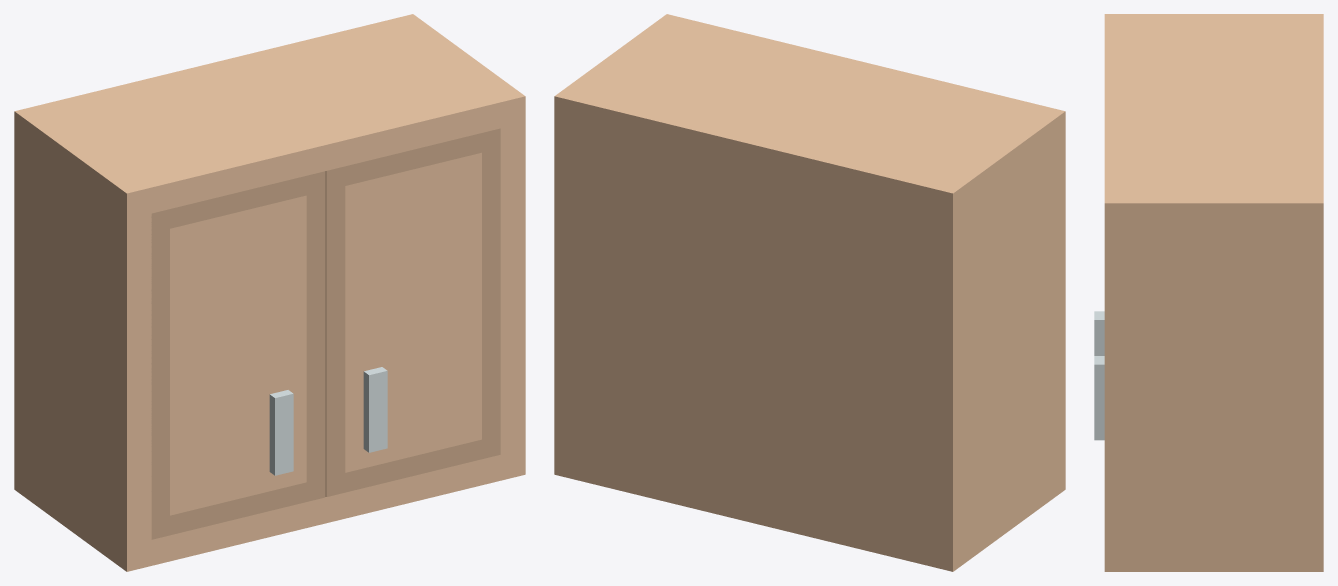
File: cabinetUpperDouble.glb
3 renders of one model, left to right at view 1: azimuth 30°, elevation 25°; view 2: azimuth 150°, elevation 25°; view 3: azimuth 270°, elevation 25°, orthographic. The views are drawn at different scales.
Parts seen in each view (by area): view 1: kitchenCabinetUpperDouble(Clone), doorRight.002, doorLeft.002; view 2: kitchenCabinetUpperDouble(Clone); view 3: kitchenCabinetUpperDouble(Clone), doorRight.002, doorLeft.002.
Boxes of the visible parts, x1,y1,x2,y2 form: kitchenCabinetUpperDouble(Clone): (14,14,525,571); doorRight.002: (325,128,500,496); doorLeft.002: (151,171,325,539); kitchenCabinetUpperDouble(Clone): (554,14,1065,571); kitchenCabinetUpperDouble(Clone): (1104,14,1323,571); doorRight.002: (1094,356,1104,440); doorLeft.002: (1094,311,1104,355).
Bounding box in the file's own units: 0.43 × 0.39 × 0.22.
